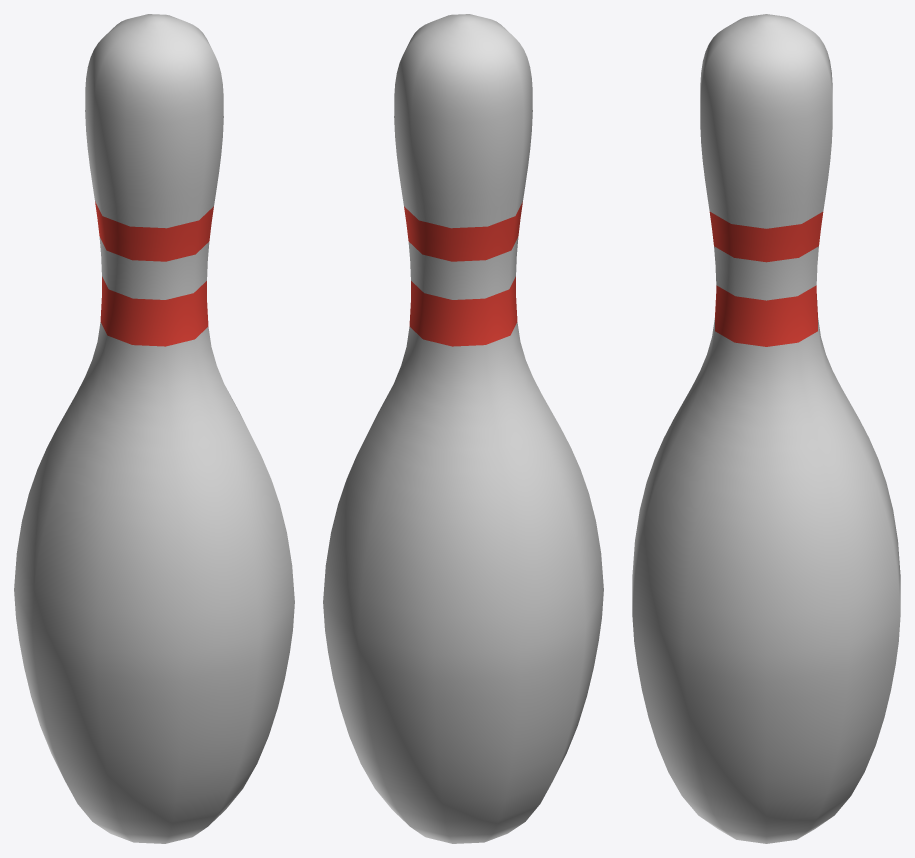
File: BowlingPin.fbx
3 renders of one model, left to right at view 1: azimuth 30°, elevation 25°; view 2: azimuth 150°, elevation 25°; view 3: azimuth 270°, elevation 25°, orthographic.
Parts seen in each view (by area): view 1: BezierCurve; view 2: BezierCurve; view 3: BezierCurve.
Part boxes in pixels (x1=…): BezierCurve: x1=14, y1=14, x2=294, y2=843; BezierCurve: x1=323, y1=14, x2=603, y2=843; BezierCurve: x1=632, y1=14, x2=900, y2=843.
Bounding box in the file's own units: 150 × 471 × 142.
